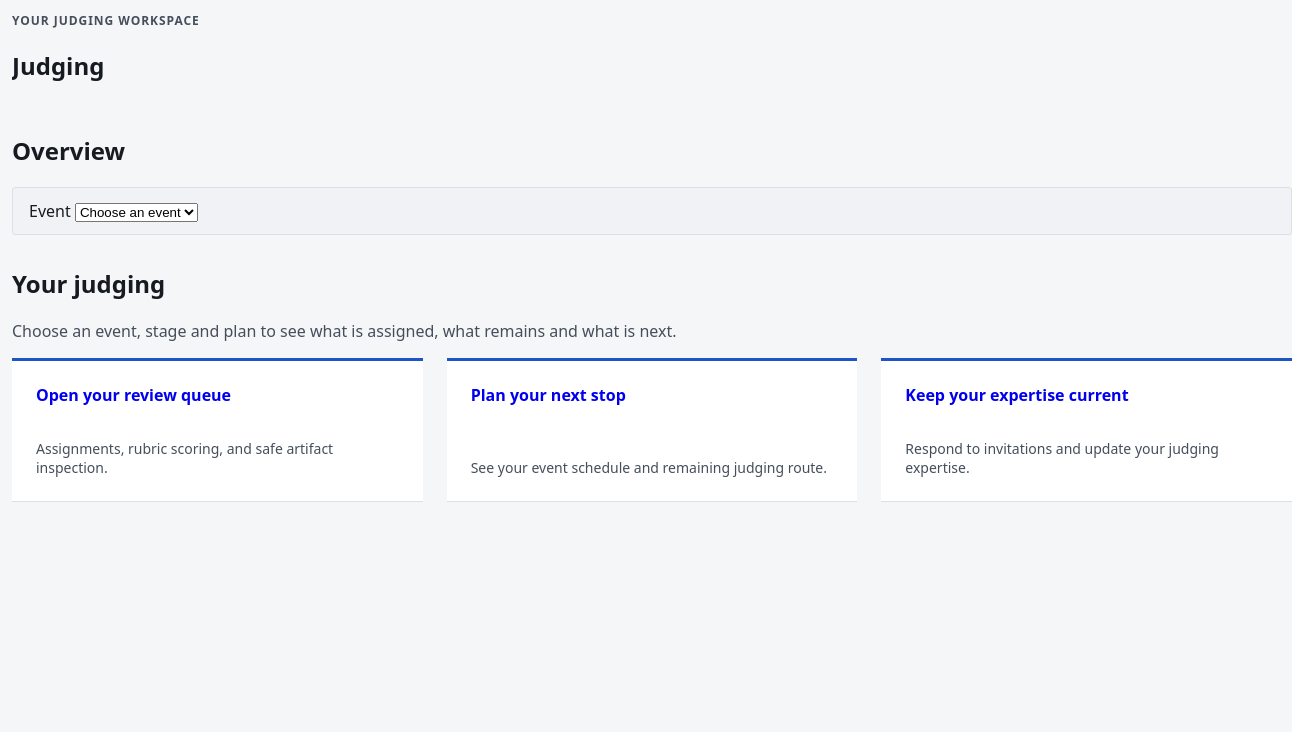
Scenario: judge desk › summarizes progress, the next project, recusal and route
Select "First" in the dropdown labelled "Event" at (136, 212), box [75,203,198,222]
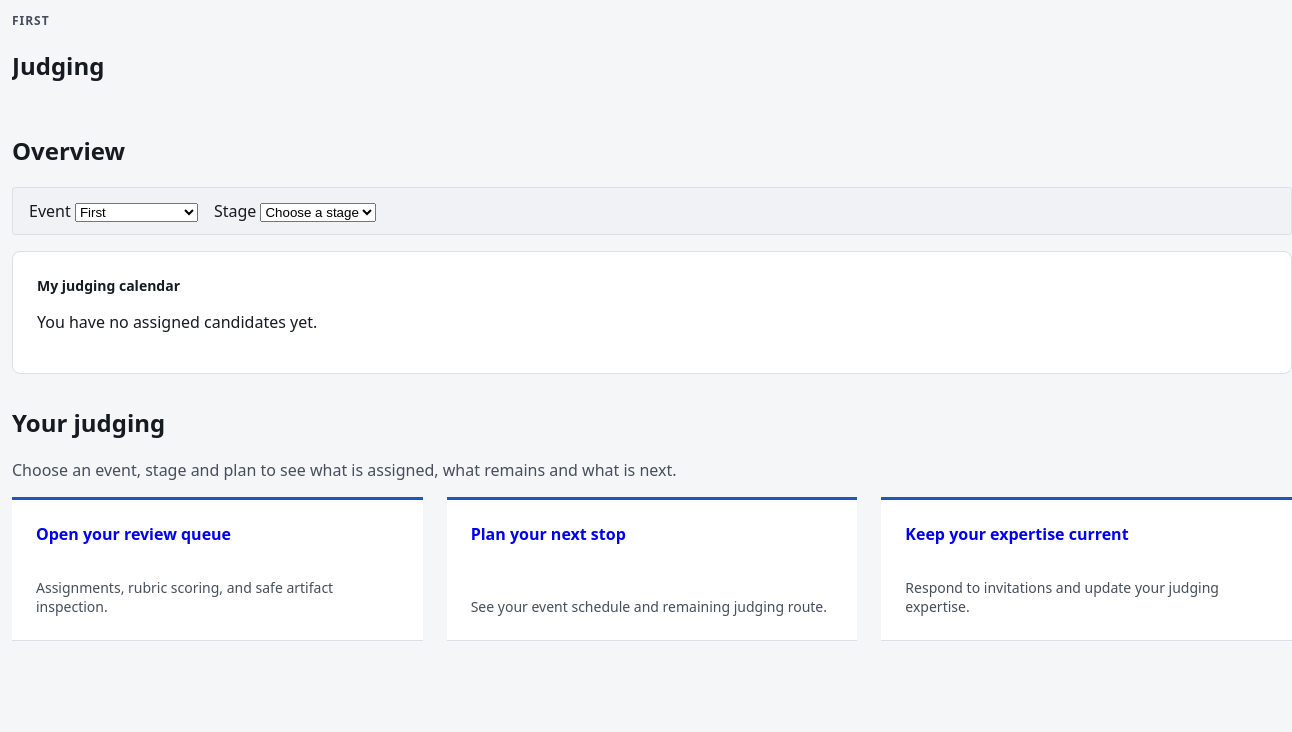
Select "Final" in the dropdown labelled "Stage" at (318, 212), box [260,203,376,222]
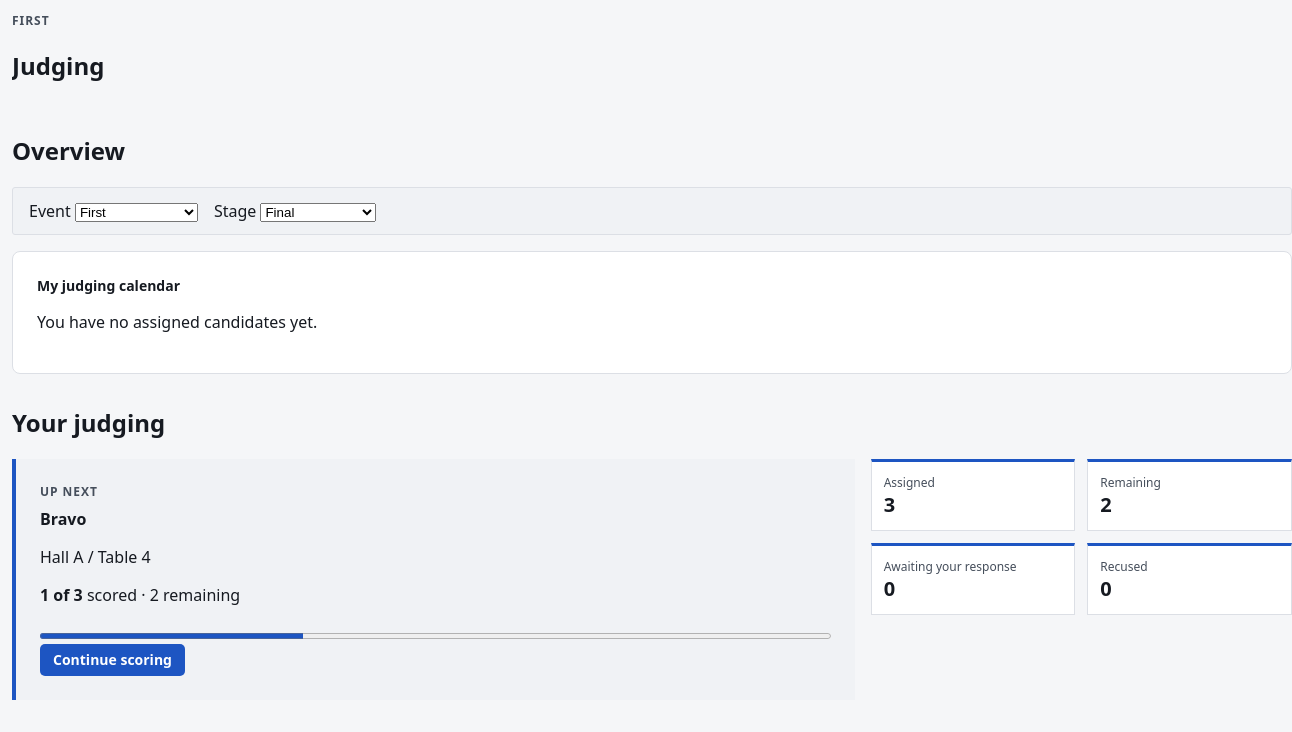
Result: the element named "Your judging summary" shows "1 of 3" at [12,459,1291,724]
Result: the element named "Your judging summary" shows "2 remaining" at [12,459,1291,724]
Result: the element named "Your judging summary" shows "Bravo" at [40,508,86,530]
